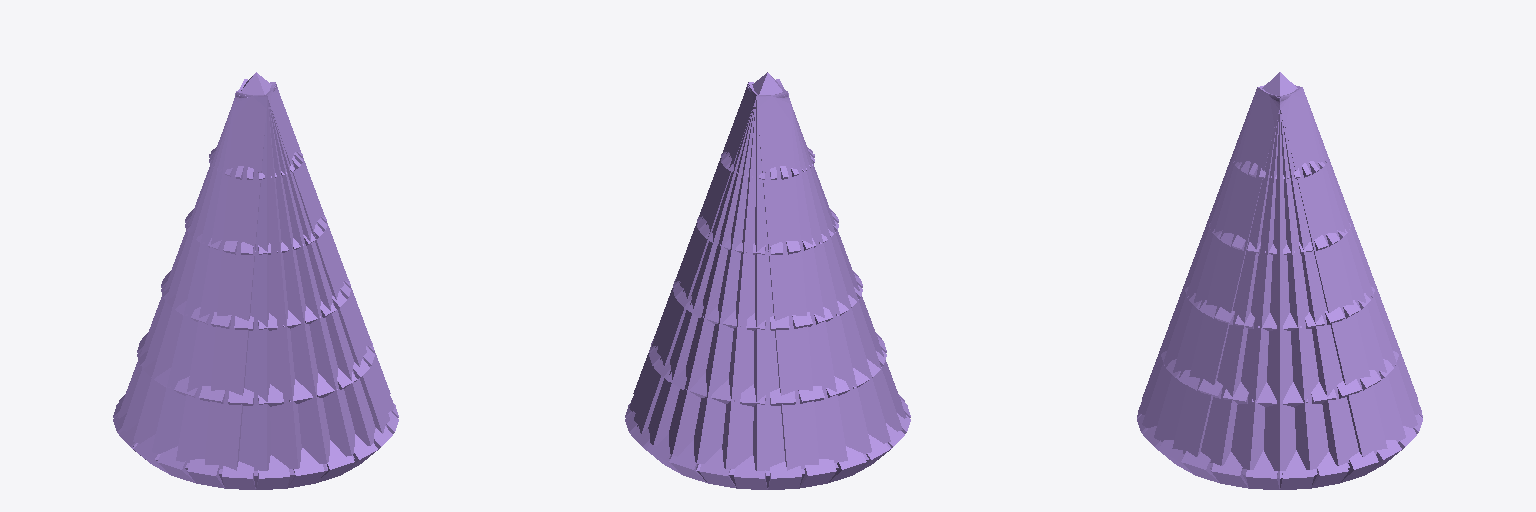
The model's file is spot.obj.
The picture shows the model from 3 angles: view 1: azimuth 30°, elevation 25°; view 2: azimuth 150°, elevation 25°; view 3: azimuth 270°, elevation 25°; orthographic projection.
Parts seen in each view (by area): view 1: Cone001; view 2: Cone001; view 3: Cone001.
Part boxes in pixels (x1,y1,x2,y2): Cone001: (113, 72, 398, 489); Cone001: (625, 72, 910, 489); Cone001: (1137, 72, 1422, 489).
Size of the model in its own units: 1.2 by 1.7 by 1.2.